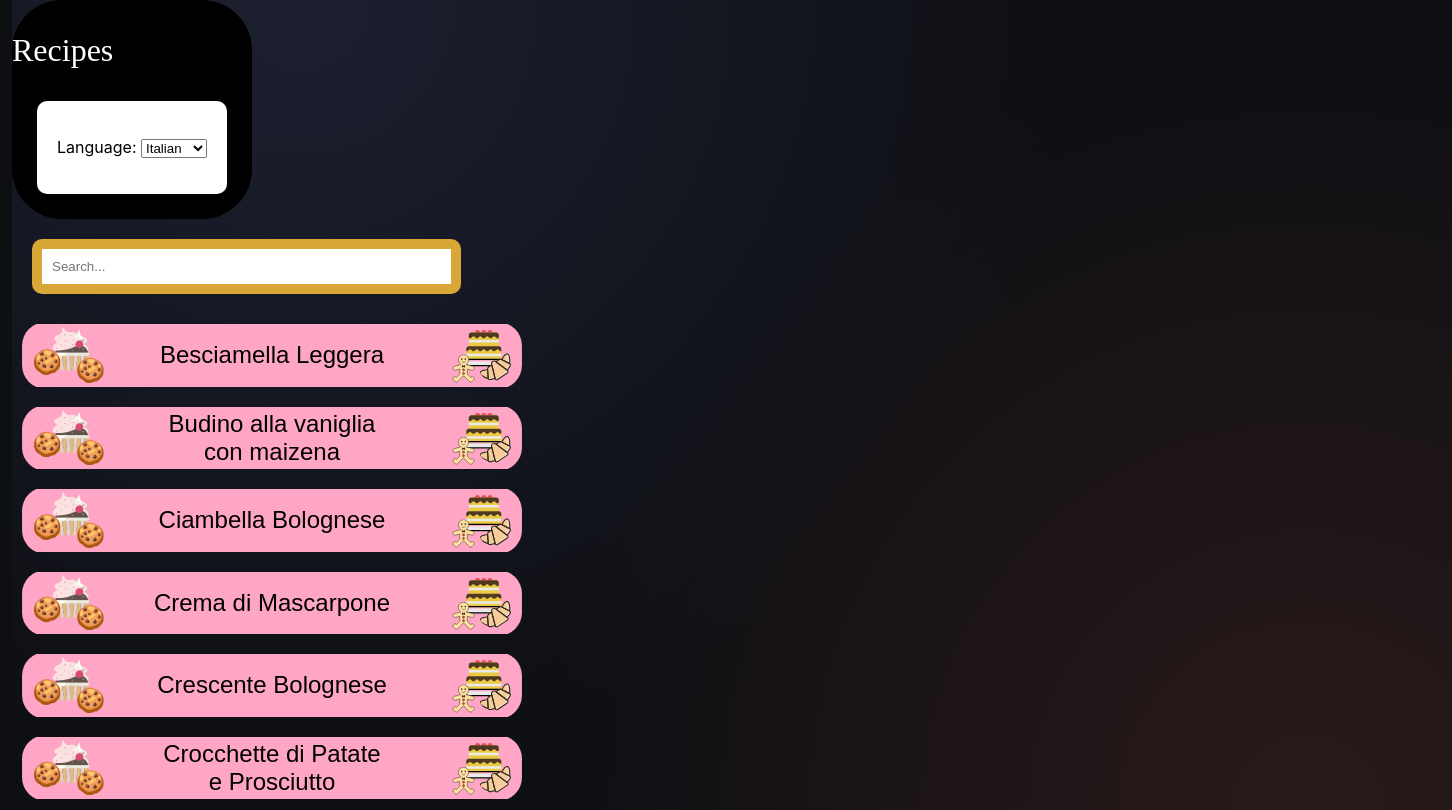
Test case: Recipes list page › filters the list as the user types
Type "carbonara" into the field with placeholder "Search..." at (246, 266), box [32,239,461,294]
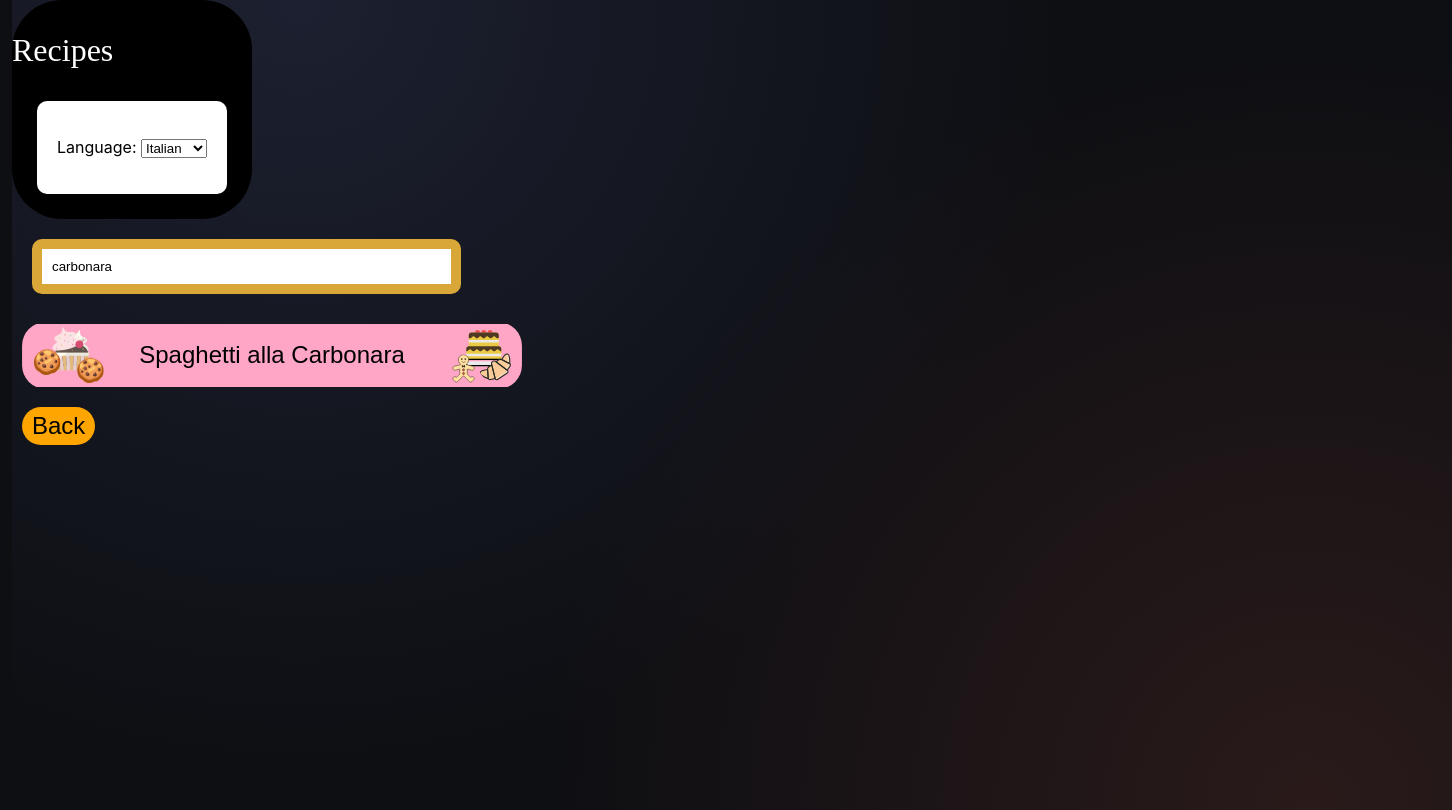
Check: the button "Spaghetti alla Carbonara" is shown, box [22,324,522,386]
